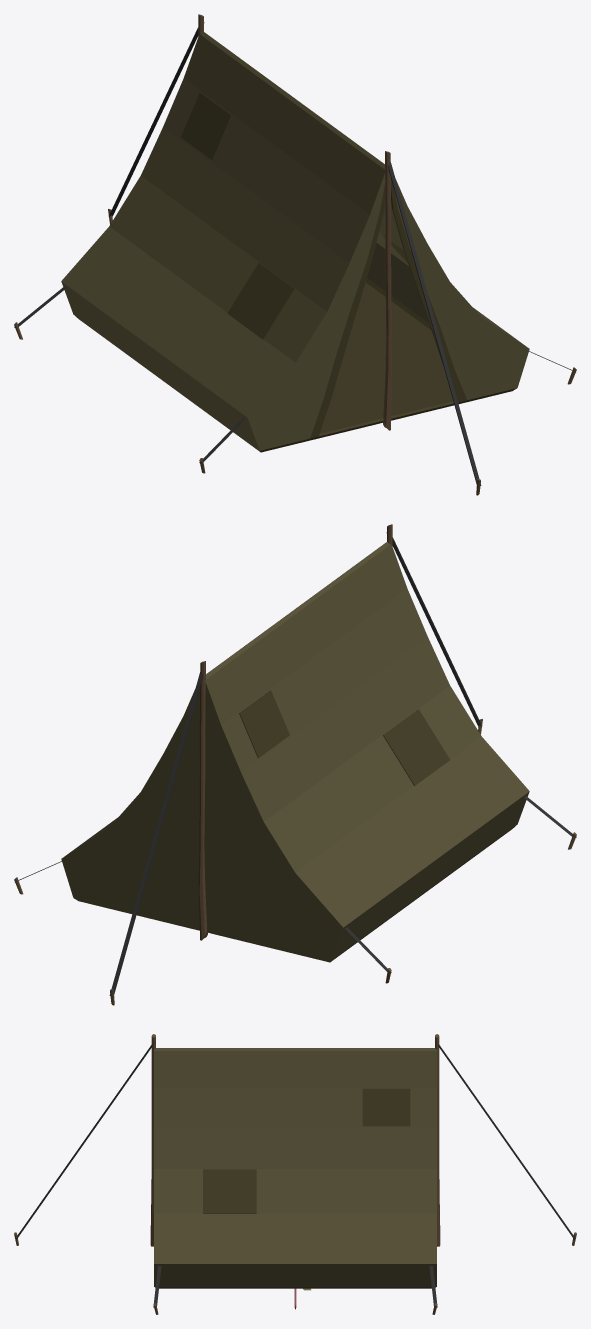
File: items.glb
The picture shows the model from 3 angles, top to bottom: view 1: azimuth 30°, elevation 25°; view 2: azimuth 150°, elevation 25°; view 3: azimuth 270°, elevation 25°; orthographic projection. The views are drawn at different scales.
Visible parts, largest first — view 1: Tent; view 2: Tent; view 3: Tent.
Boxes of the visible parts, x1,y1,x2,y2 form: Tent: (14, 14, 576, 495); Tent: (14, 524, 576, 1005); Tent: (14, 1034, 576, 1314).
Size of the model in its own units: 14.58 by 12.99 by 24.87.
